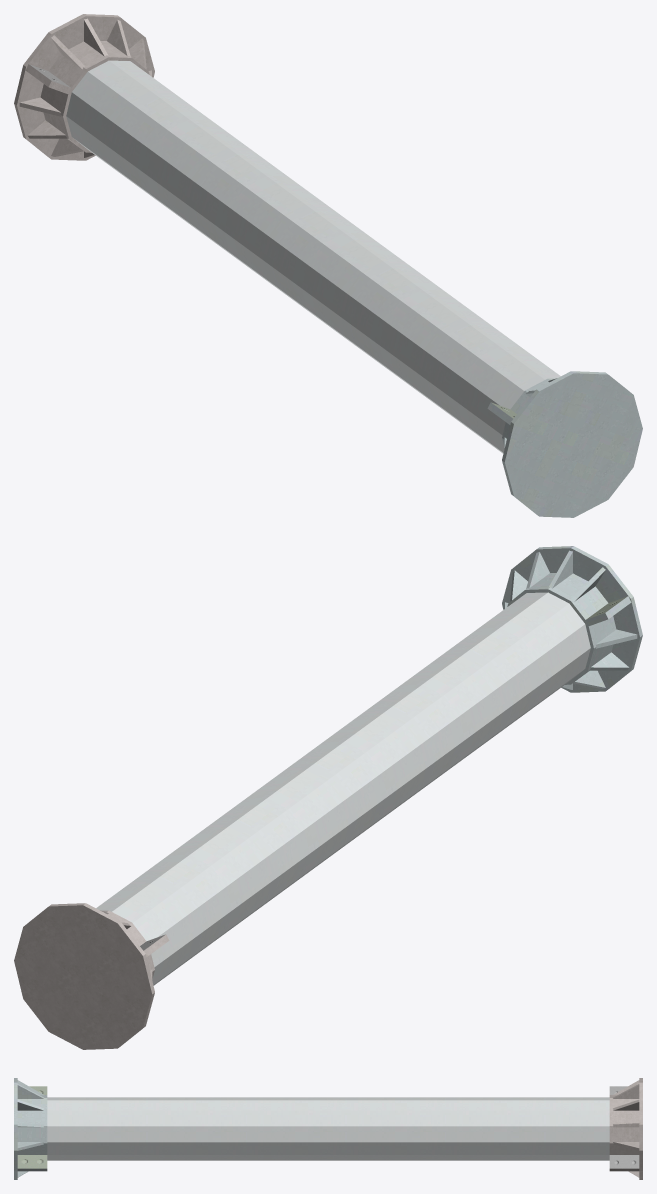
File: ztzz001-geode.glb
3 views of the same model, one above another, from view 1: azimuth 30°, elevation 25°; view 2: azimuth 150°, elevation 25°; view 3: azimuth 270°, elevation 25° (orthographic). The views are drawn at different scales.
Parts seen in each view (by area): view 1: Node; view 2: Node; view 3: Node.
Boxes of the visible parts, x1,y1,x2,y2 form: Node: [14, 14, 642, 517]; Node: [14, 546, 642, 1049]; Node: [14, 1078, 642, 1179].
Bounding box in the file's own units: 0.4175 × 0.4175 × 2.57.
Materials: 5 (5 with a texture image).
